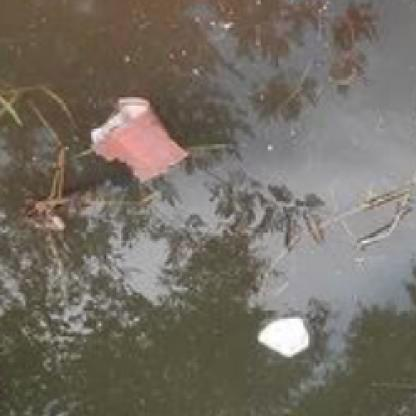Trash: (86, 94, 192, 190), (255, 310, 318, 366)
